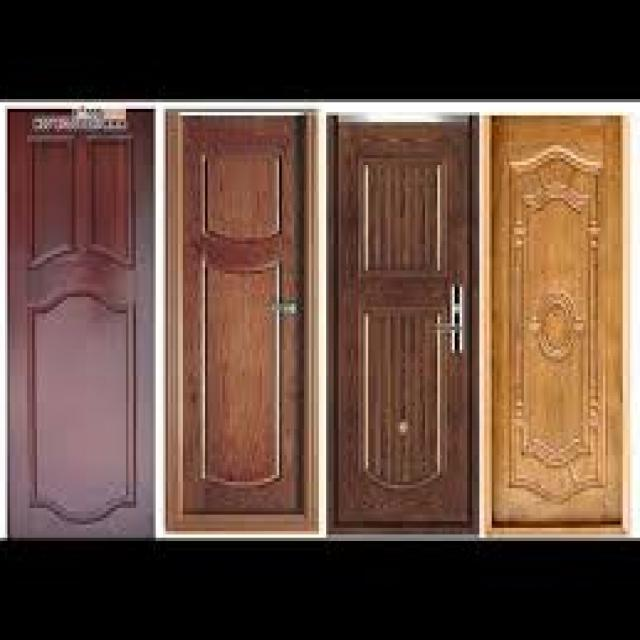door: (330, 116, 482, 532)
